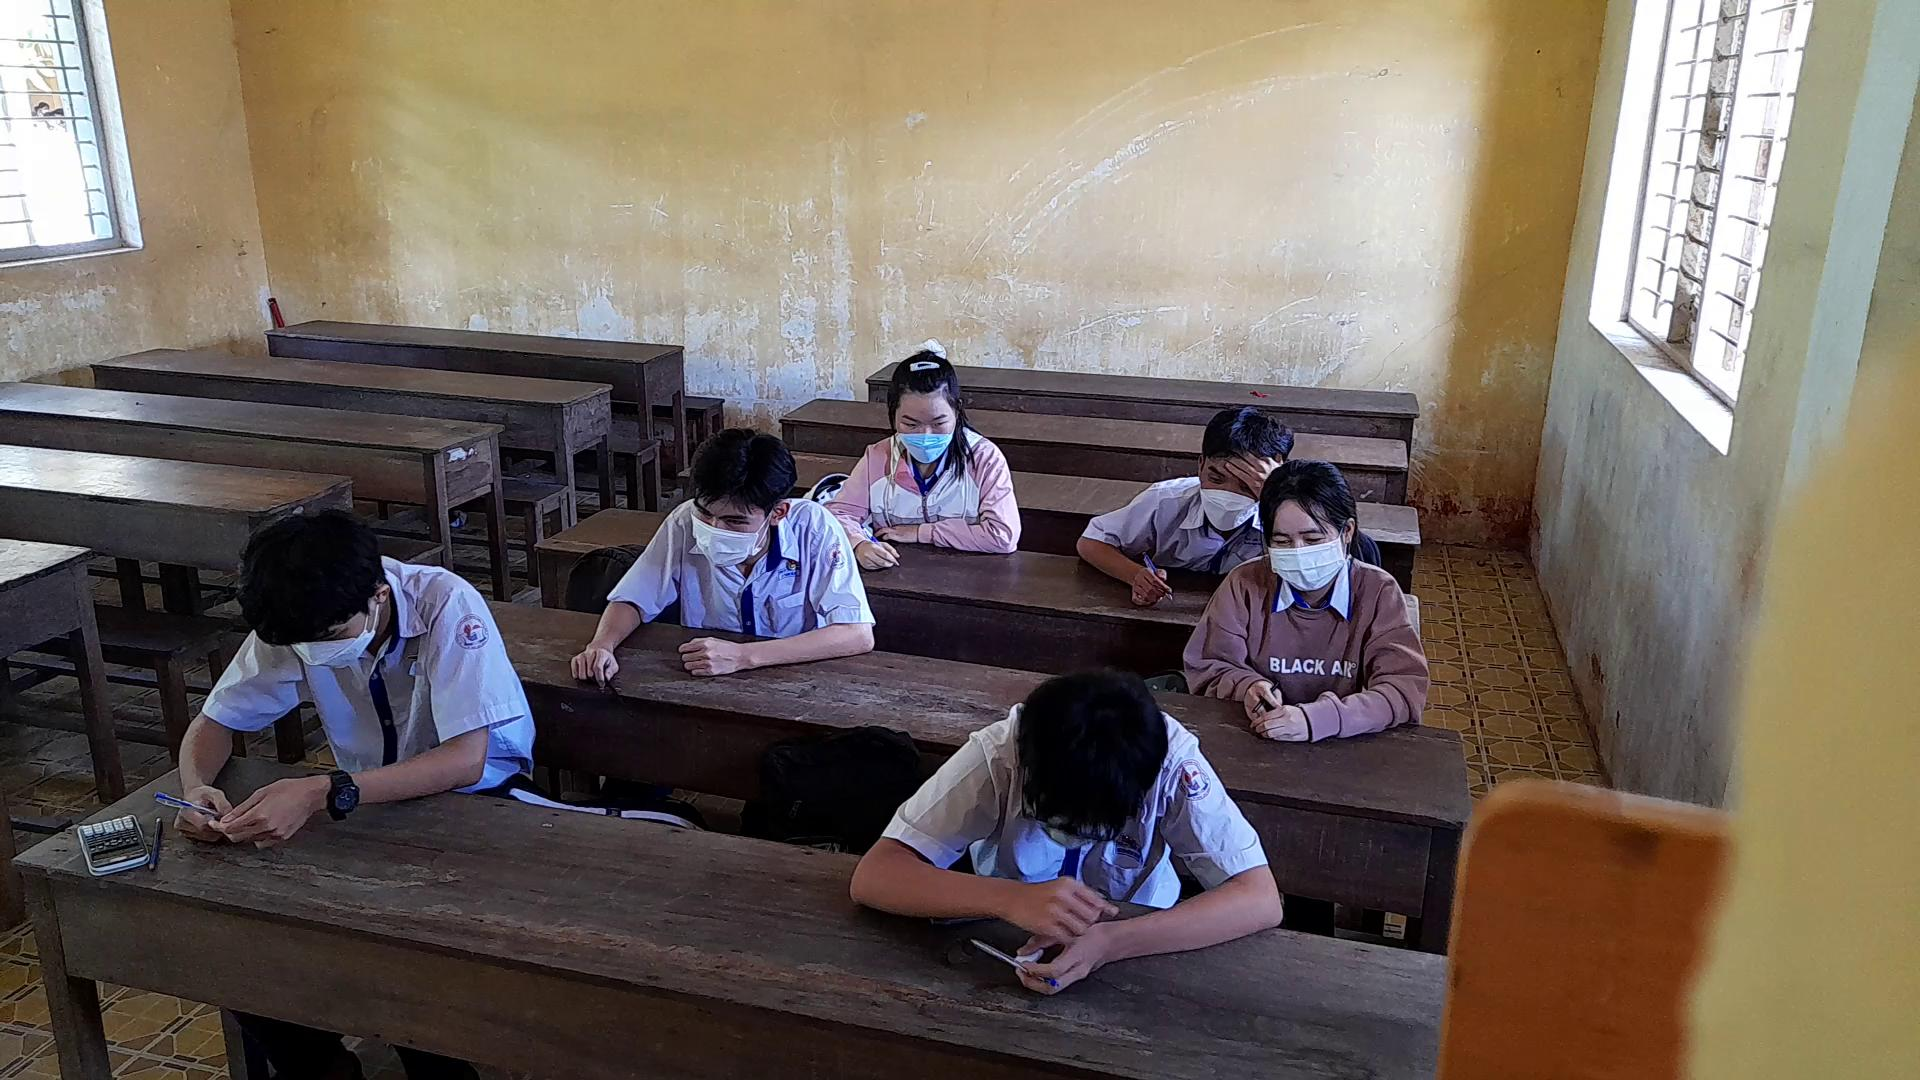Bend Over The Desk: (1002, 665, 1179, 866)
Normal: (141, 487, 543, 855), (547, 409, 881, 698), (1175, 452, 1437, 752), (804, 338, 1034, 589)
